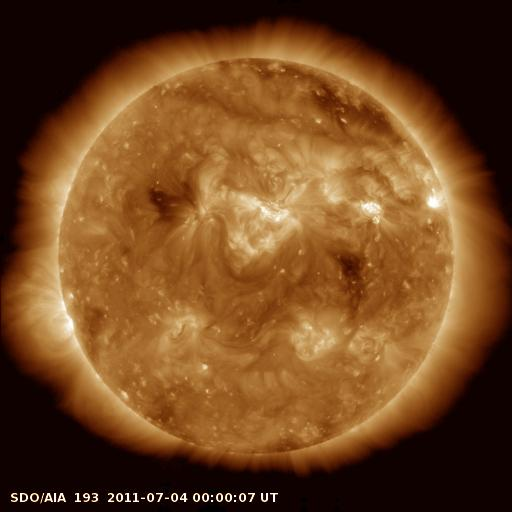coronal_hole: (210, 51, 405, 142), (329, 242, 375, 294), (146, 181, 185, 220)
